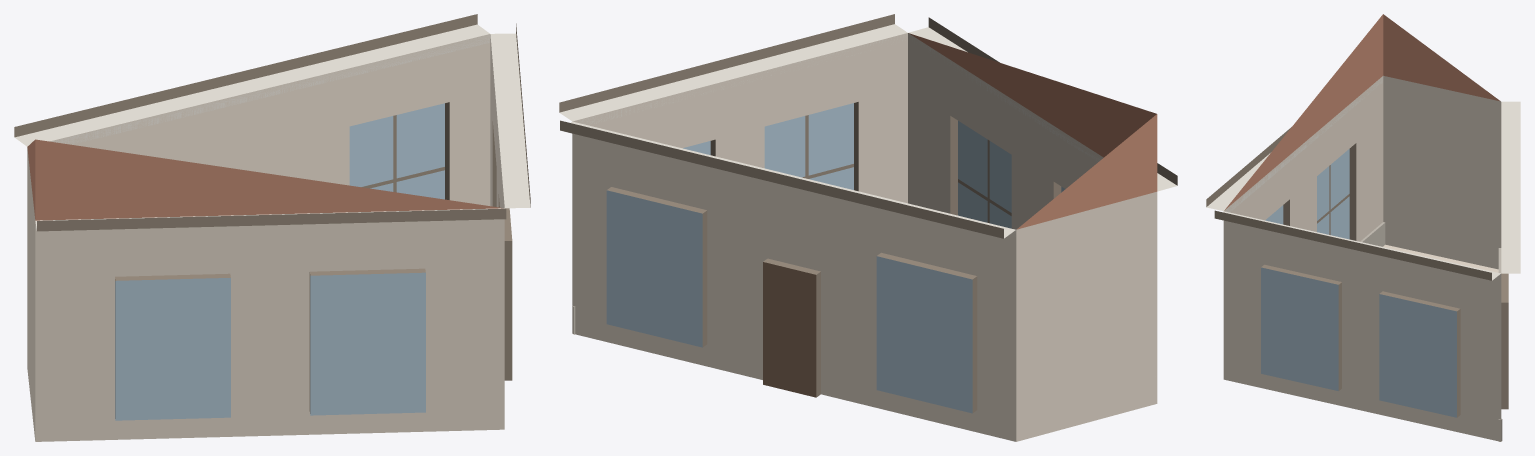
3 renders of one model, left to right at view 1: azimuth 30°, elevation 25°; view 2: azimuth 150°, elevation 25°; view 3: azimuth 270°, elevation 25°, orthographic. The views are drawn at different scales.
Visible parts, largest first — view 1: E-2#2; view 2: E-2#2; view 3: E-2#2.
Boxes of the visible parts, left/top/right/bottom form: E-2#2: left=14, top=14, right=530, bottom=441; E-2#2: left=559, top=14, right=1177, bottom=441; E-2#2: left=1206, top=14, right=1520, bottom=441.
Bounding box in the file's own units: 10.1 × 5.19 × 6.43.
